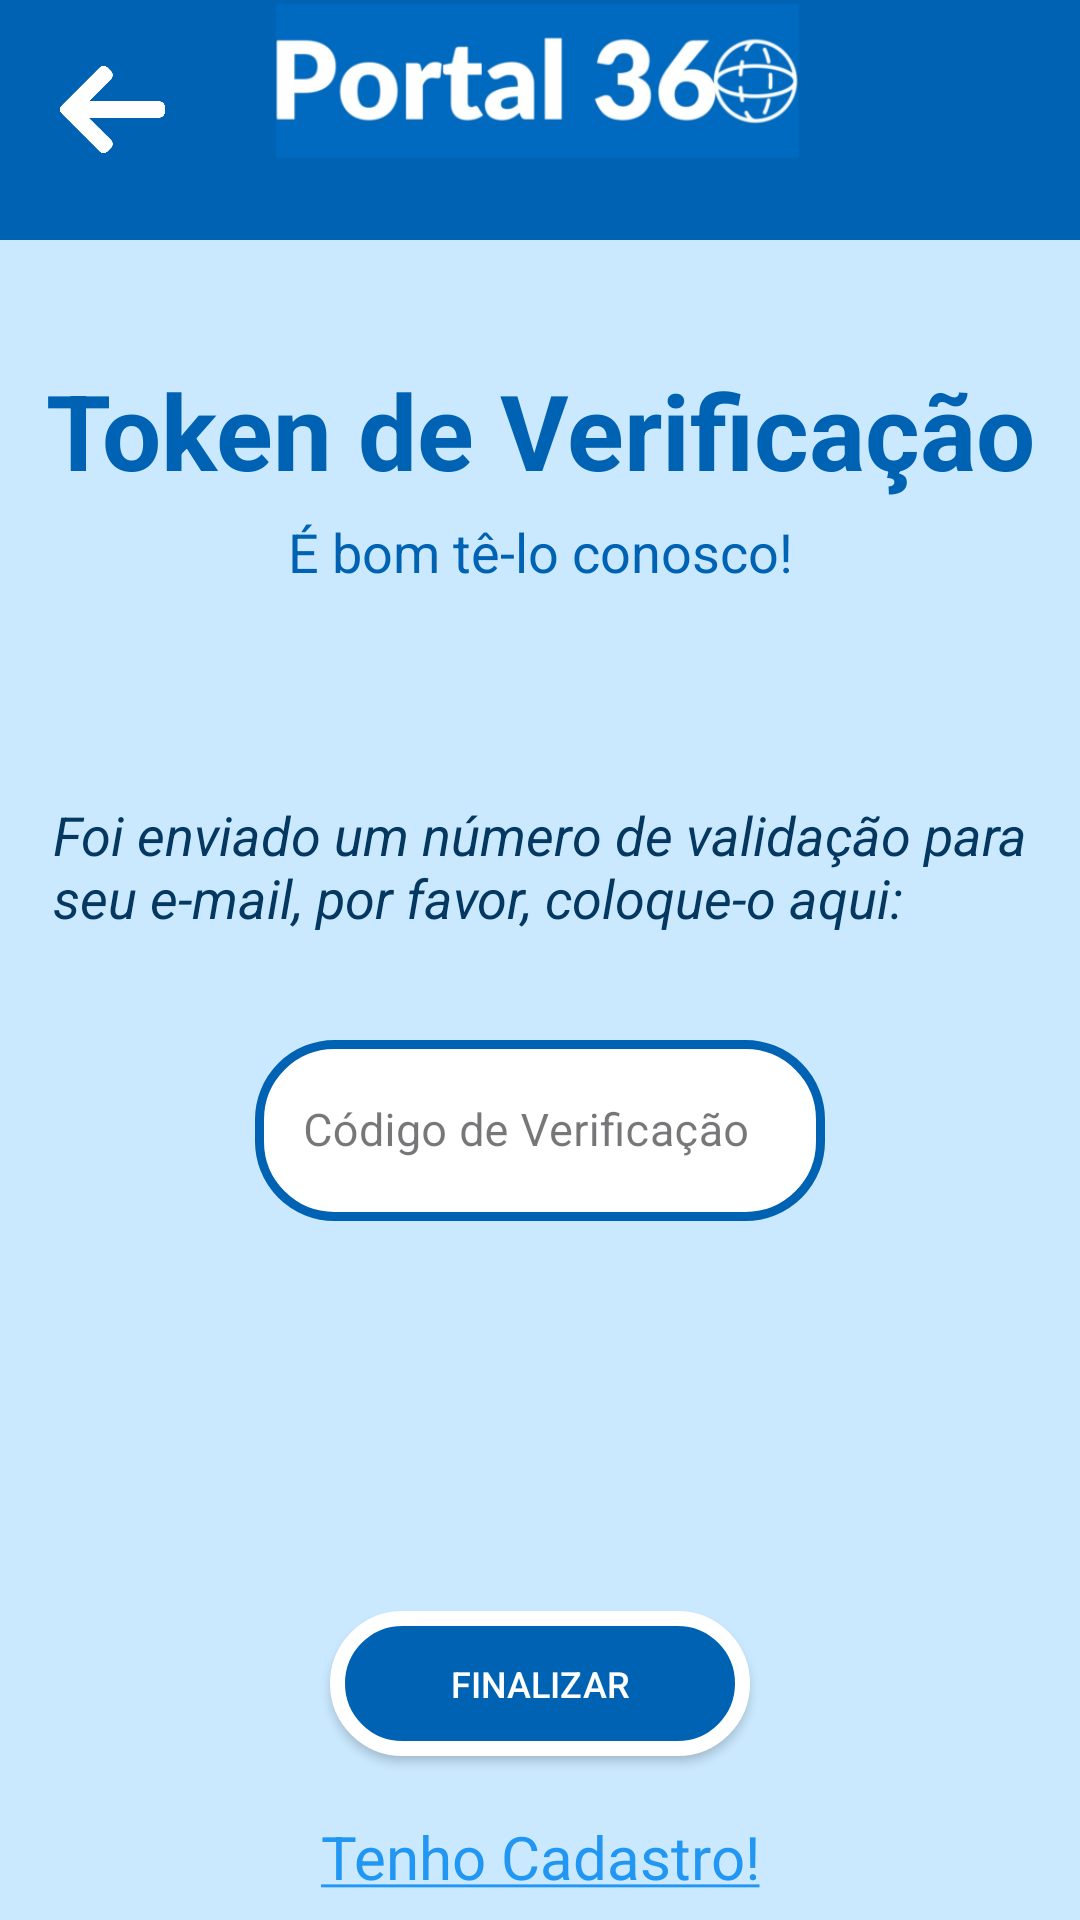

Icons on this 1080 × 1920 Android screen, each with the point to tap as (x=x, y=y):
voltar: (x=112, y=109)
